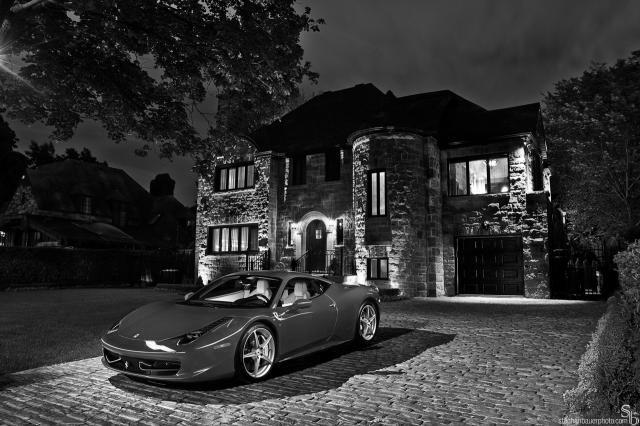car: (101, 275, 383, 383)
